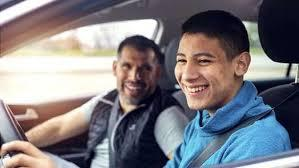Awake: (173, 9, 254, 114)
